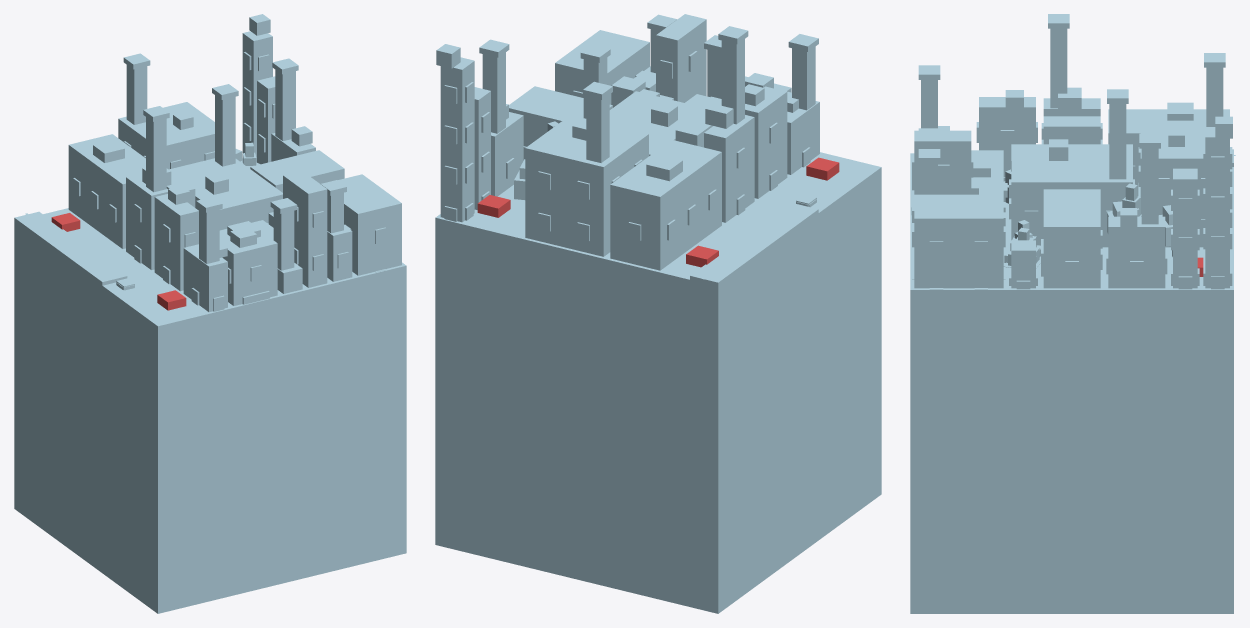
Rendered from block_26_sewersystem_100.glb.
The picture shows the model from 3 angles, left to right: view 1: azimuth 30°, elevation 25°; view 2: azimuth 150°, elevation 25°; view 3: azimuth 270°, elevation 25°; orthographic projection. The views are drawn at different scales.
Parts seen in each view (by area): view 1: Patch_UpperRight_b26_SL, Factories_UpperRight_b26_SL, Roads_UpperRight_b26_SL, SL_Net_26; view 2: Patch_UpperRight_b26_SL, Factories_UpperRight_b26_SL, Roads_UpperRight_b26_SL, SL_Net_26; view 3: Patch_UpperRight_b26_SL, Factories_UpperRight_b26_SL.
Boxes of the visible parts, x1,y1,x2,y2 form: Patch_UpperRight_b26_SL: [14, 208, 406, 613]; Factories_UpperRight_b26_SL: [68, 14, 401, 311]; Roads_UpperRight_b26_SL: [14, 211, 182, 353]; SL_Net_26: [51, 213, 186, 310]; Patch_UpperRight_b26_SL: [435, 152, 881, 613]; Factories_UpperRight_b26_SL: [436, 14, 819, 270]; Roads_UpperRight_b26_SL: [690, 202, 818, 286]; SL_Net_26: [477, 157, 839, 267]; Patch_UpperRight_b26_SL: [910, 153, 1233, 613]; Factories_UpperRight_b26_SL: [911, 14, 1232, 289].
Bounding box in the file's own units: 9.5 × 16.01 × 9.55.
